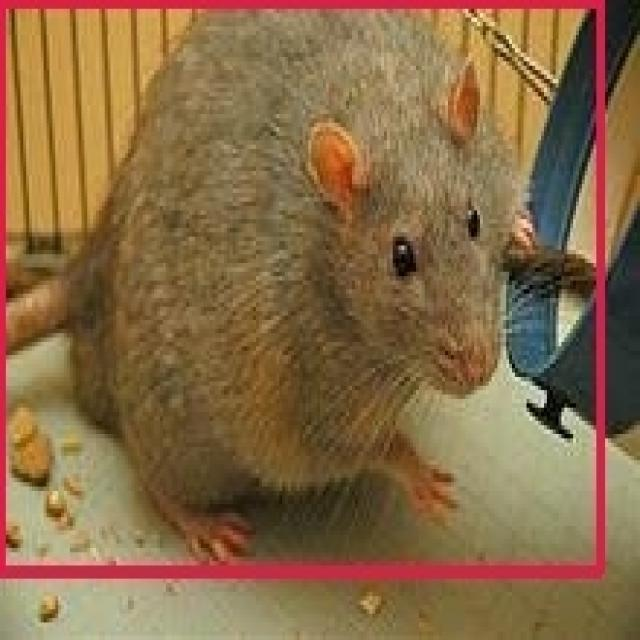rat: (1, 0, 601, 570)
